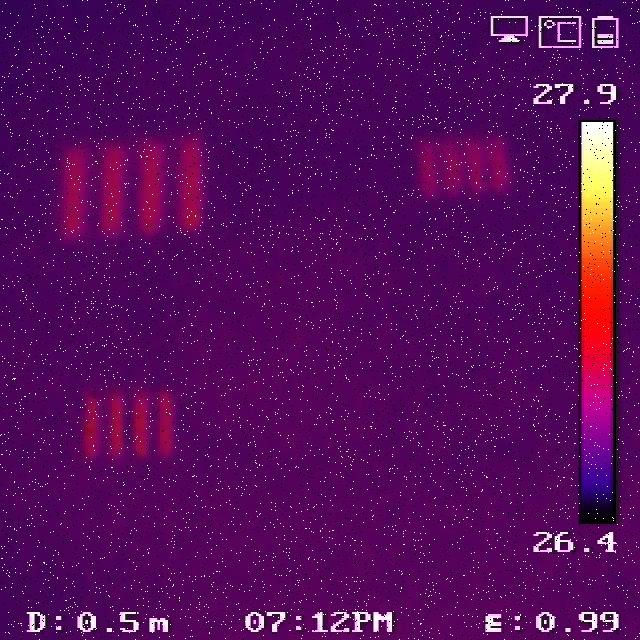Distinguishable 4-bar target: (54, 138, 202, 242), (76, 382, 184, 462)
threshold 4-bar target: (417, 134, 507, 192)
